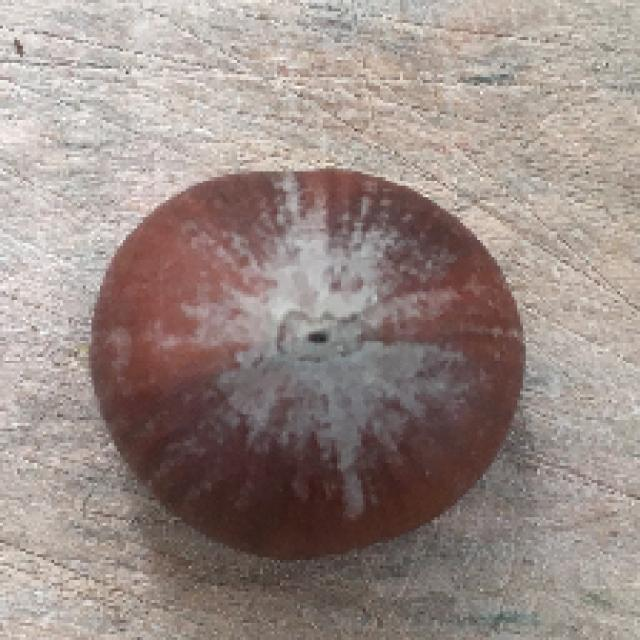damagedHazelnut: (87, 159, 539, 565)
